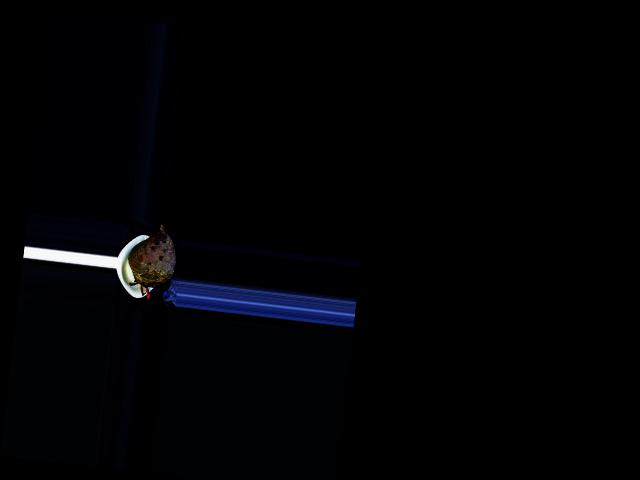beet: (123, 221, 178, 301)
